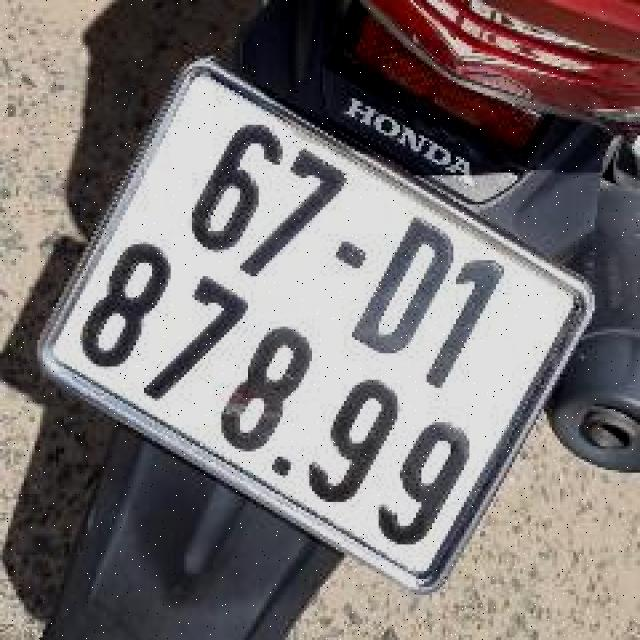1: (404, 243, 519, 395)
6: (175, 113, 297, 271)
7: (127, 264, 267, 414), (230, 136, 363, 287)
8: (199, 305, 333, 466), (66, 223, 187, 381)
9: (358, 402, 491, 561), (297, 365, 420, 520)
D: (333, 200, 473, 374)
